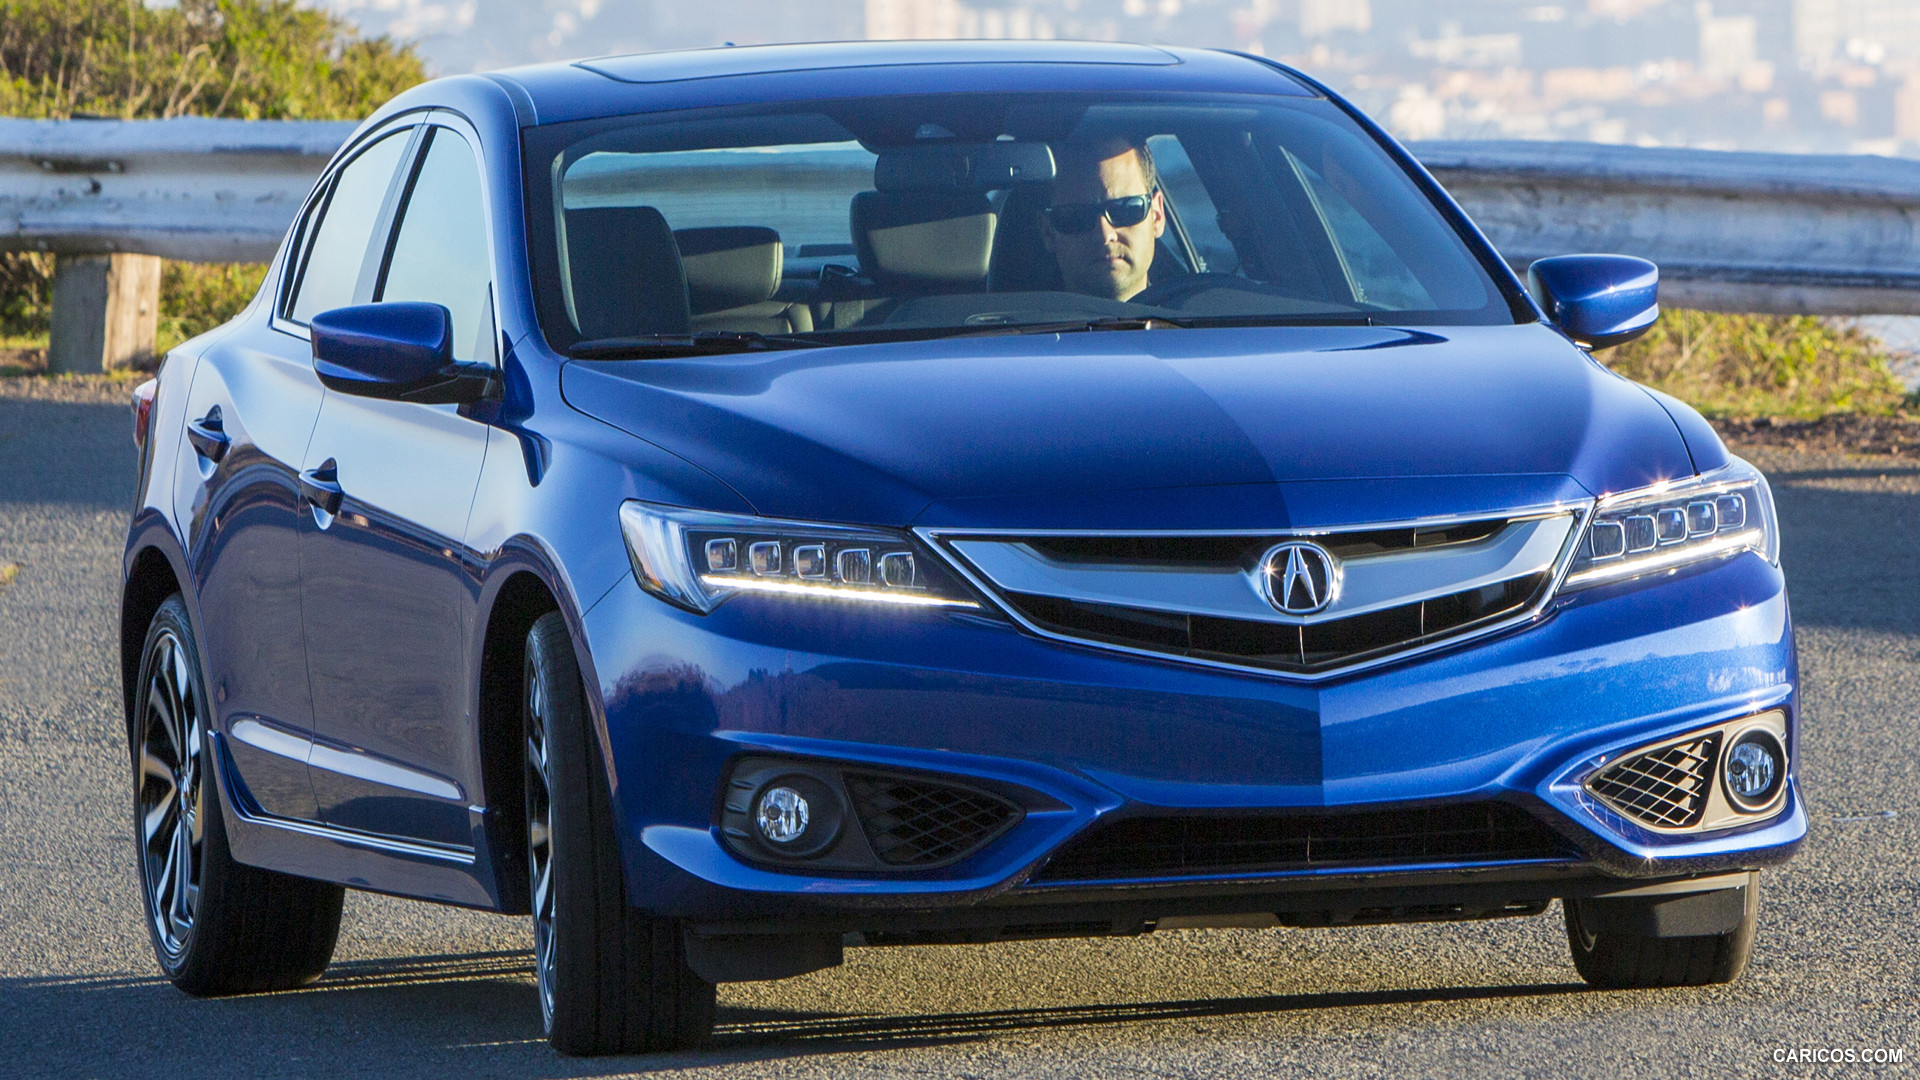Fog Lamp & Scope: (702, 741, 1033, 884)
Front: (554, 368, 1815, 934)
Front Bumper: (574, 647, 1818, 899)
Grill: (914, 492, 1596, 688)
Headlight: (618, 493, 996, 633)
